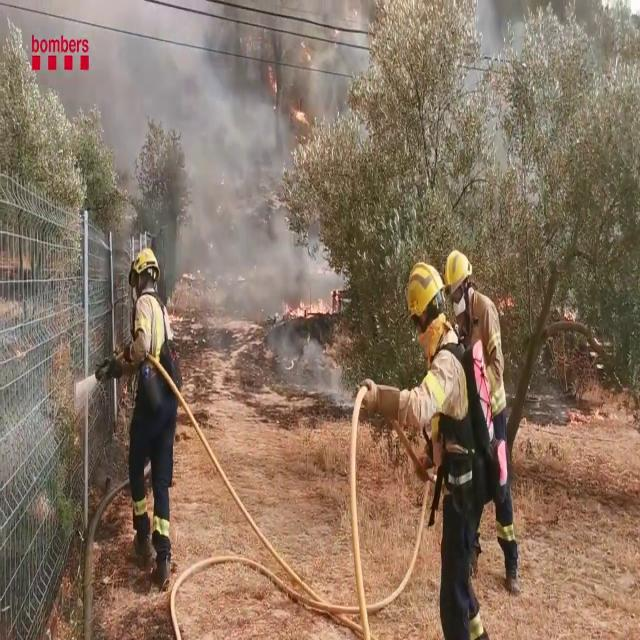Fire: (282, 289, 338, 325)
Smoke: (170, 1, 358, 327)
